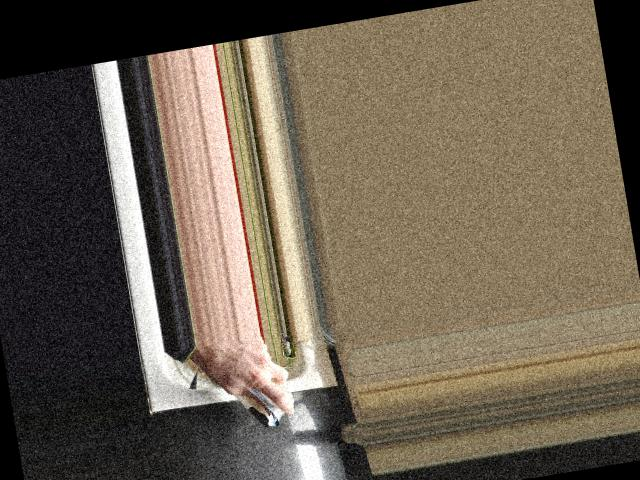cheese: (213, 338, 294, 437)
